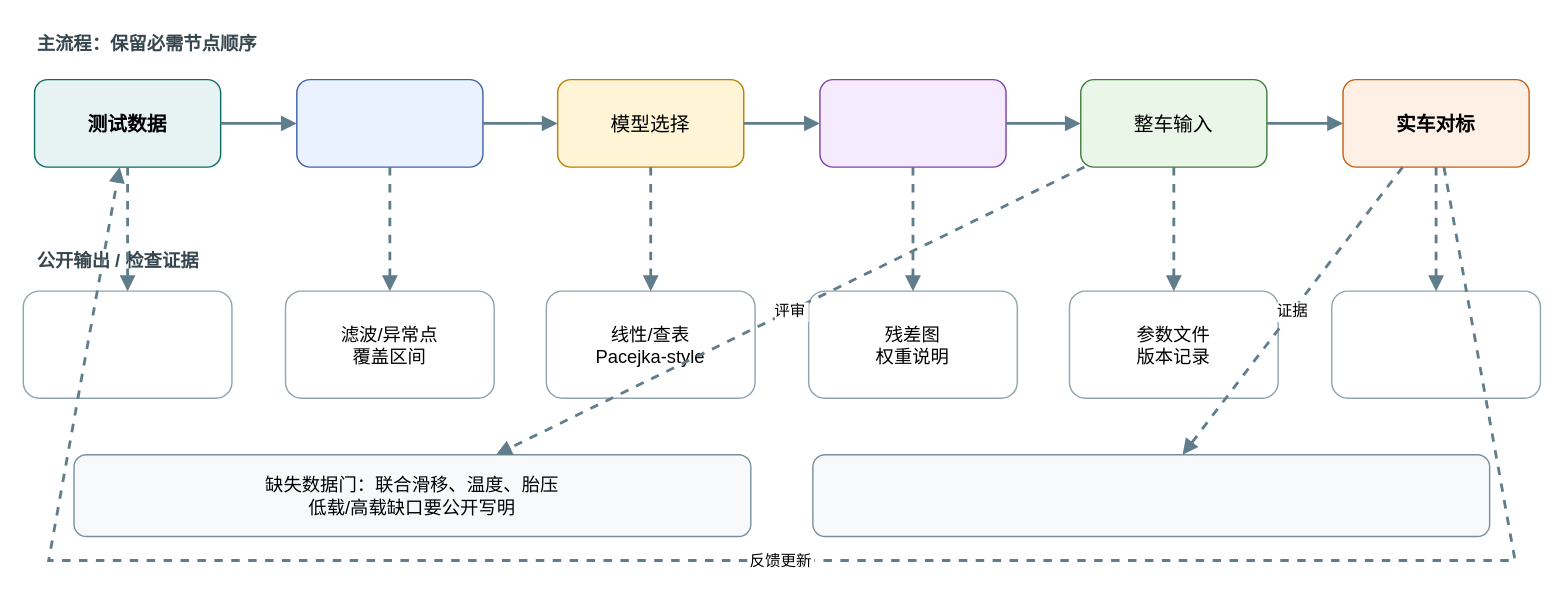
Image size: 1564x595. Some labels were removed from this diagram. Each missing label, with the centre of its shape:
可信输出：符号约定、外推边界 模型版本和对标证据一起发布: (x=1150, y=495)
拟合修正: (x=912, y=122)
数据来源 单位范围: (x=127, y=344)
数据清理: (x=389, y=122)
测试对比 修正建议: (x=1435, y=344)
